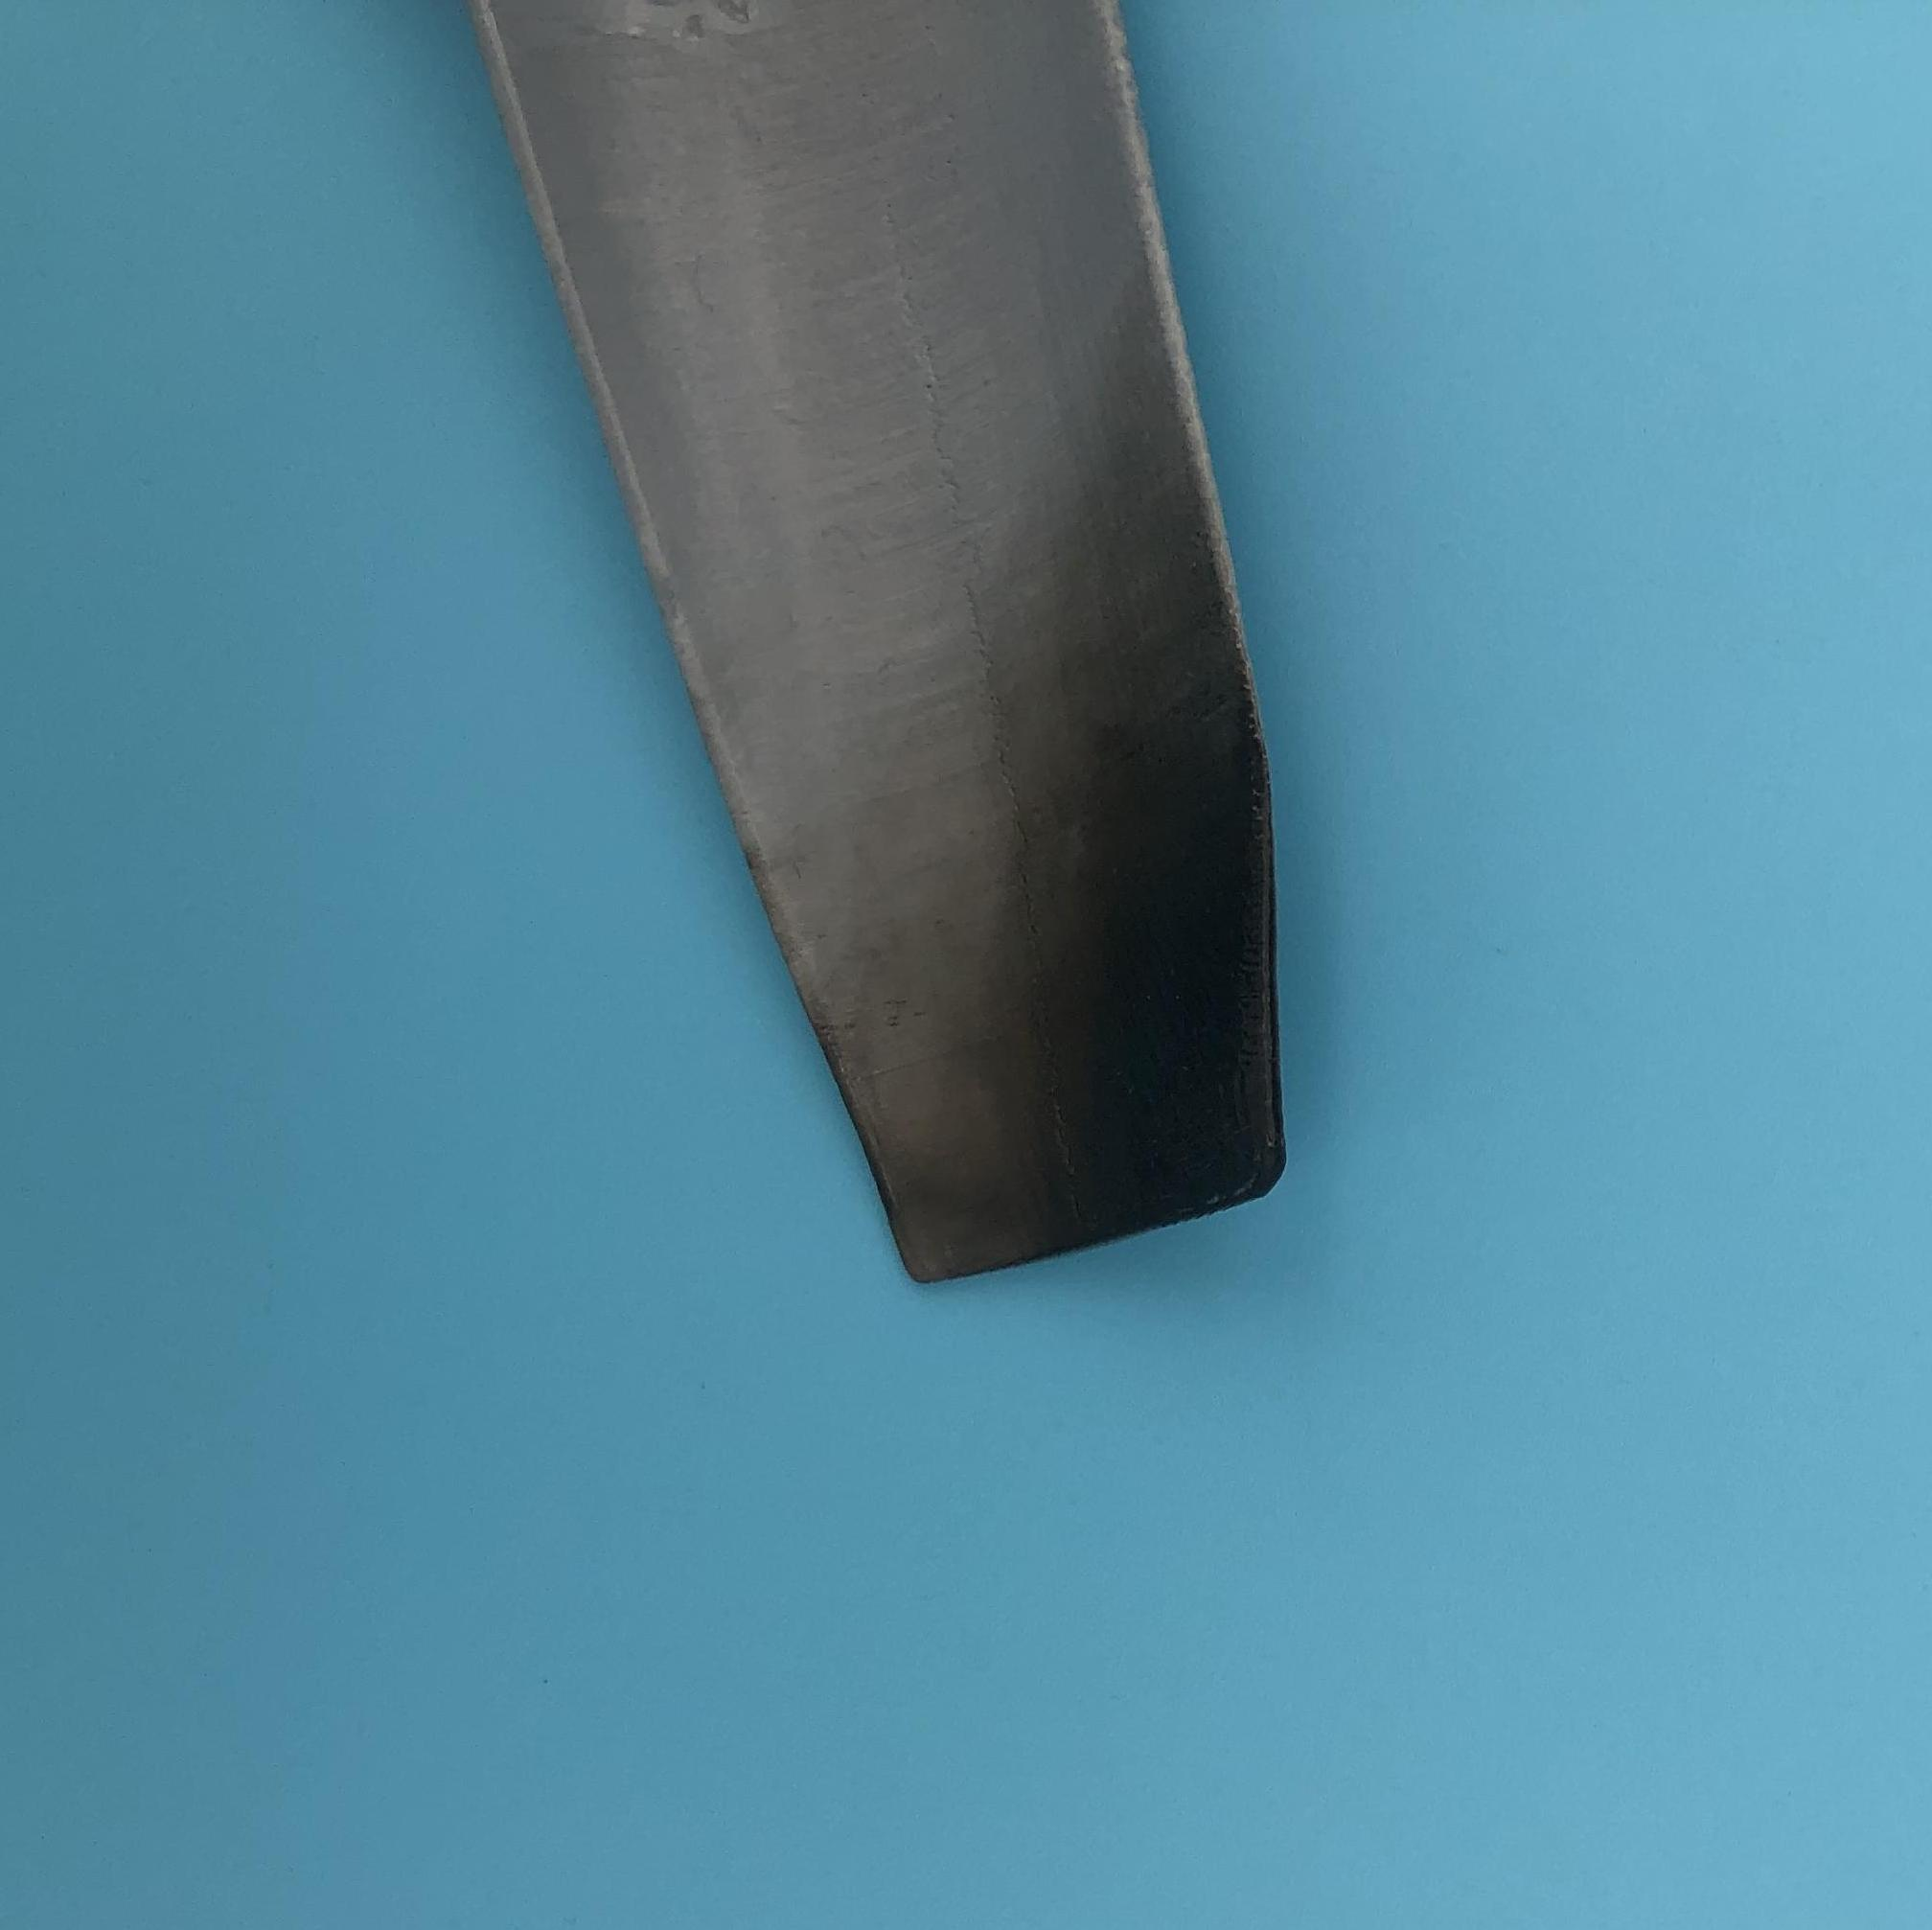ablation: (986, 612, 1278, 1193)
